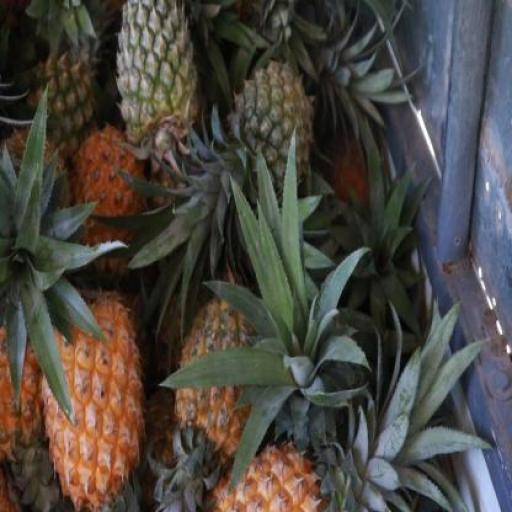Pineapple - v8 v1: (36, 285, 148, 511)
